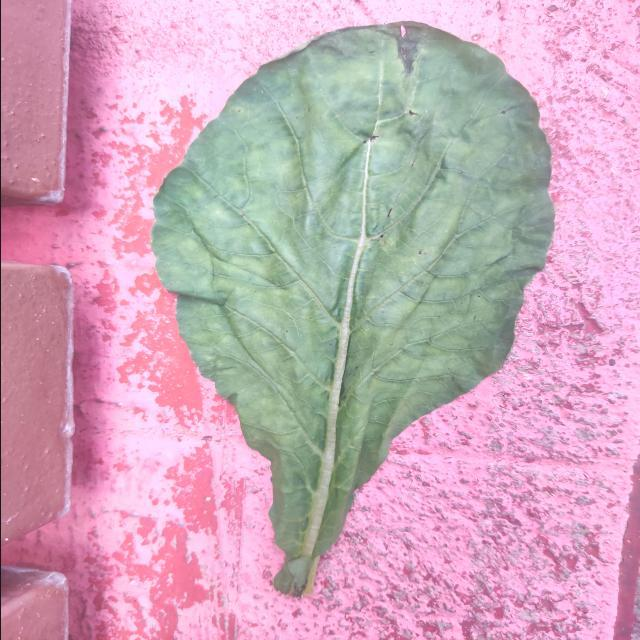leaf: (149, 19, 556, 597)
